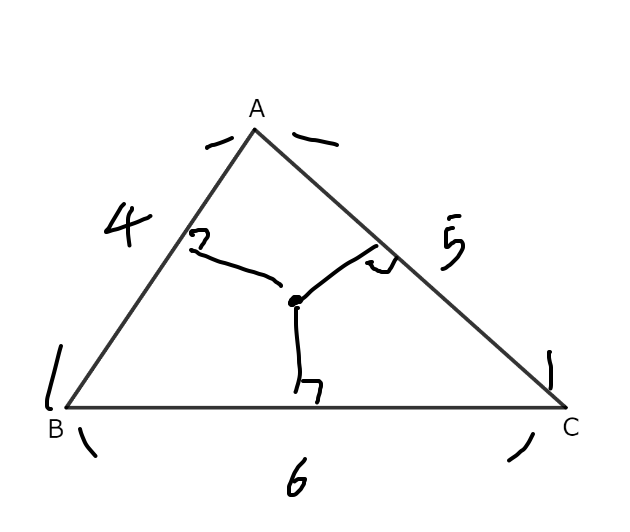Angle_Right: (296, 377, 329, 409)
